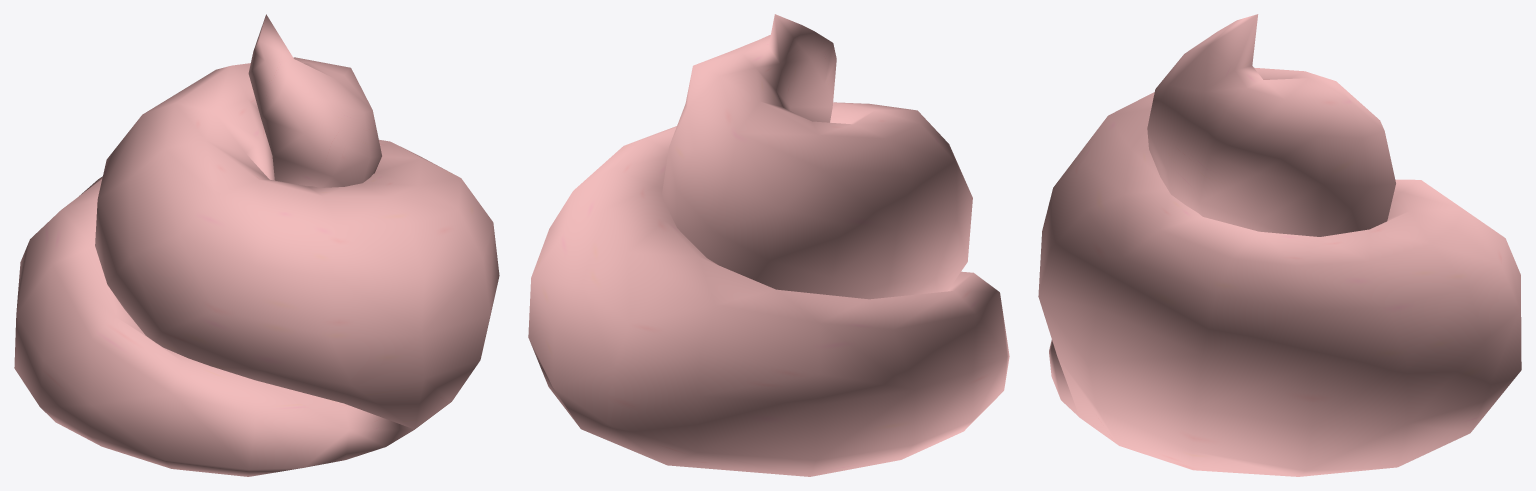
Rendered from ic0.ico.obj.
The picture shows the model from 3 angles, left to right: view 1: azimuth 30°, elevation 25°; view 2: azimuth 150°, elevation 25°; view 3: azimuth 270°, elevation 25°; orthographic projection. The views are drawn at different scales.
Size of the model in its own units: 4.39 by 3.79 by 4.29.
1 material, 1 textured.
